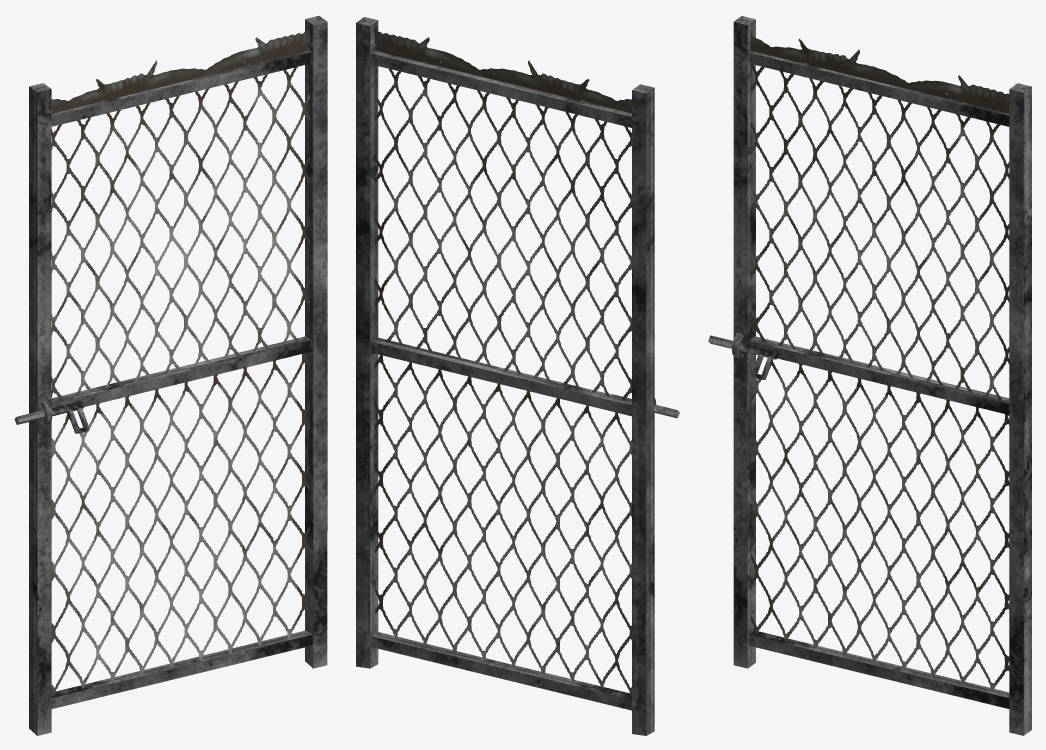
The model's file is Fence Door Basement.fbx.
3 renders of one model, left to right at view 1: azimuth 30°, elevation 25°; view 2: azimuth 150°, elevation 25°; view 3: azimuth 330°, elevation 25°, orthographic.
Visible parts, largest first — view 1: Porta, Porta.001; view 2: Porta; view 3: Porta, Porta.001.
Part boxes in pixels (bbox=[...]): Porta: bbox=[29, 16, 327, 735]; Porta.001: bbox=[14, 400, 89, 433]; Porta: bbox=[356, 17, 656, 735]; Porta: bbox=[732, 16, 1031, 735]; Porta.001: bbox=[708, 335, 778, 379].
Bounding box in the file's own units: 130 × 260 × 14.01.
